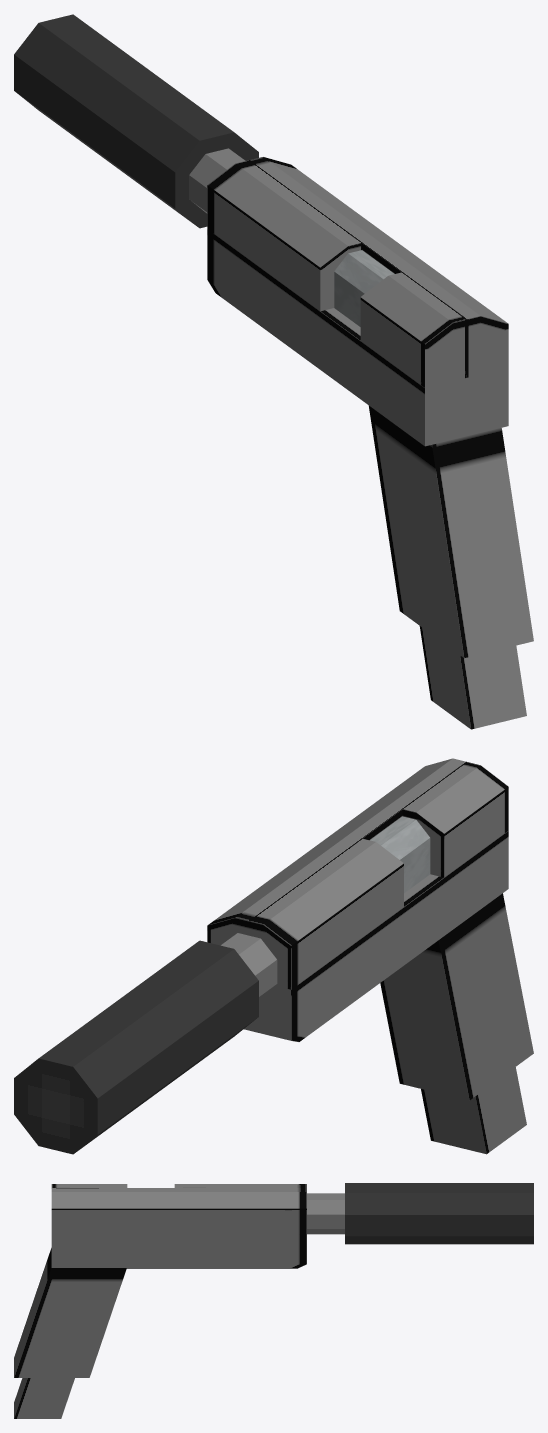
File: weapon01_test.obj
3 views of the same model, one above another, from view 1: azimuth 30°, elevation 25°; view 2: azimuth 150°, elevation 25°; view 3: azimuth 270°, elevation 25° (orthographic). The views are drawn at different scales.
Visible parts, largest first — view 1: grip, suppressor, body, slide02-2, slide02-1, slide01, magazine, innerslide, barrel; view 2: suppressor, grip, body, slide02-2, slide02-1, slide01, magazine, innerslide, barrel; view 3: slide01, suppressor, grip, body, magazine, barrel, slide02-2, slide02-1.
Boxes of the visible parts, left/top/right/bottom form: grip: left=368, top=405, right=533, bottom=658; suppressor: left=14, top=14, right=258, bottom=228; body: left=207, top=229, right=508, bottom=446; slide02-2: left=207, top=160, right=361, bottom=311; slide02-1: left=360, top=272, right=466, bottom=387; slide01: left=249, top=157, right=508, bottom=377; magazine: left=419, top=626, right=526, bottom=729; innerslide: left=334, top=250, right=394, bottom=326; barrel: left=189, top=148, right=245, bottom=213; suppressor: left=14, top=940, right=258, bottom=1154; grip: left=380, top=893, right=533, bottom=1100; body: left=244, top=831, right=508, bottom=1041; slide02-2: left=249, top=838, right=403, bottom=989; slide02-1: left=402, top=762, right=508, bottom=877; slide01: left=207, top=758, right=466, bottom=945; magazine: left=421, top=1067, right=526, bottom=1154; innerslide: left=370, top=816, right=430, bottom=893; barrel: left=221, top=933, right=277, bottom=997; slide01: left=51, top=1188, right=306, bottom=1234; suppressor: left=345, top=1183, right=533, bottom=1244; grip: left=14, top=1248, right=126, bottom=1377; body: left=51, top=1234, right=306, bottom=1268; magazine: left=14, top=1378, right=74, bottom=1418; barrel: left=307, top=1193, right=344, bottom=1234; slide02-2: left=174, top=1184, right=306, bottom=1187; slide02-1: left=51, top=1184, right=127, bottom=1187.
Bounding box in the file's own units: 0.075 × 0.325 × 0.6875.
3 materials, 3 textured.
